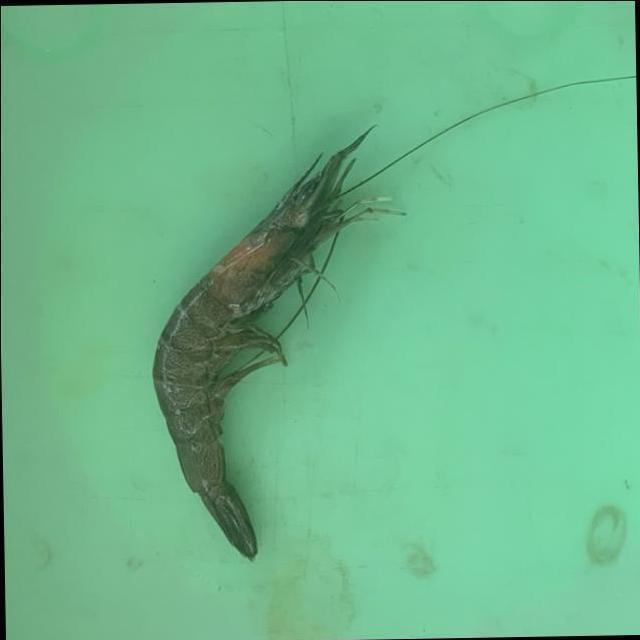shrimp: (153, 129, 394, 560)
